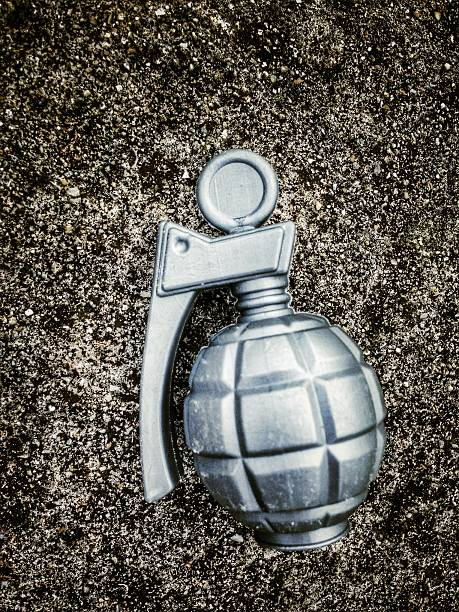e1: (133, 148, 385, 547)
